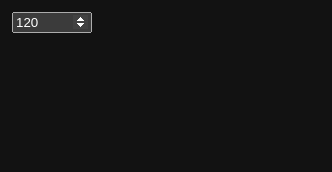
Test case: NumberField › puts the last value back when the field is left empty or unreadable
Clear the number field named "BPM" at coordinates (52, 22), box [12,12,92,33]
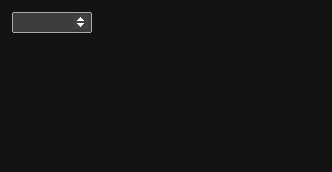
Leave the number field named "BPM", box [12,12,92,33]
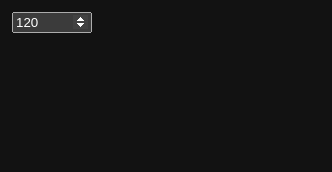
Expected: the number field named "BPM" holds "120", [12,12,92,33]
